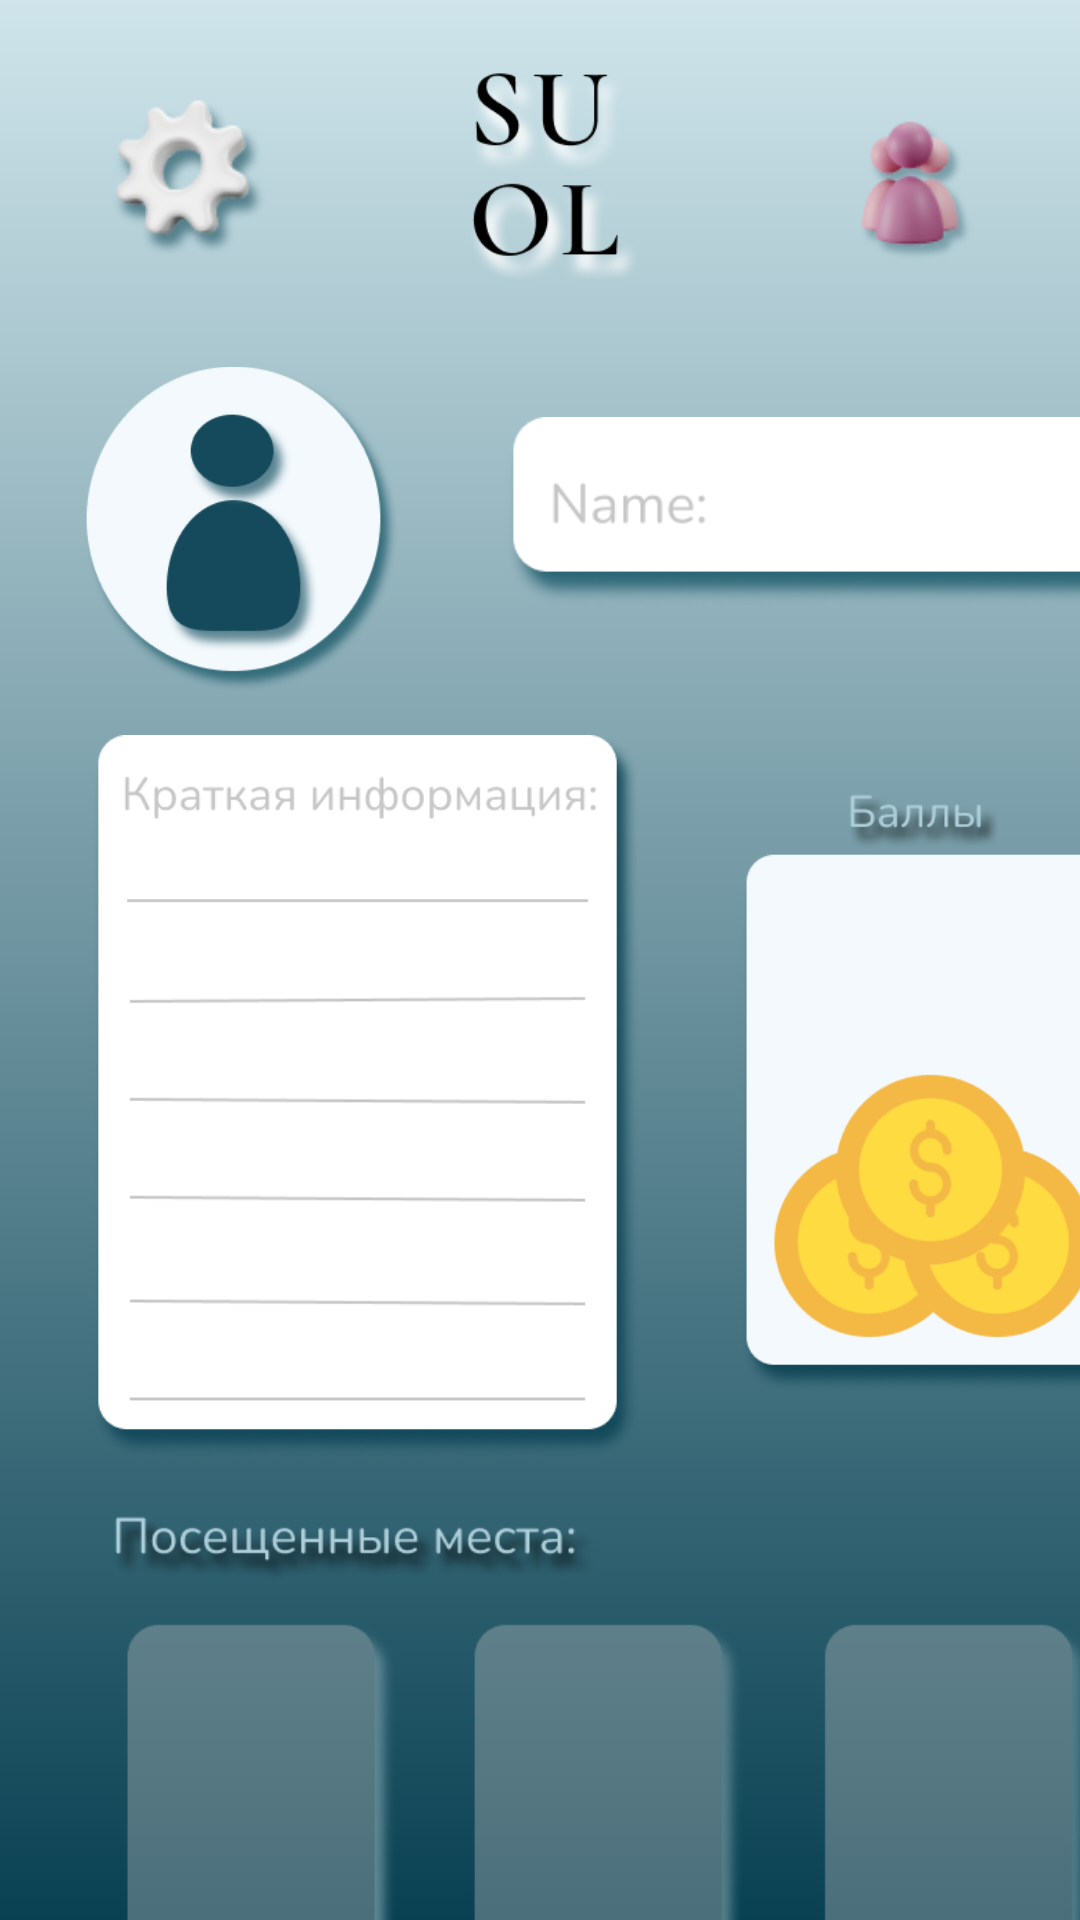

Named icons in this screenshot (1080w x 1920h) and their bounding boxes, (x1, y1, x2, y2):
account: (862, 122, 968, 257)
profile photo: (84, 367, 399, 693)
setting: (117, 100, 257, 248)
